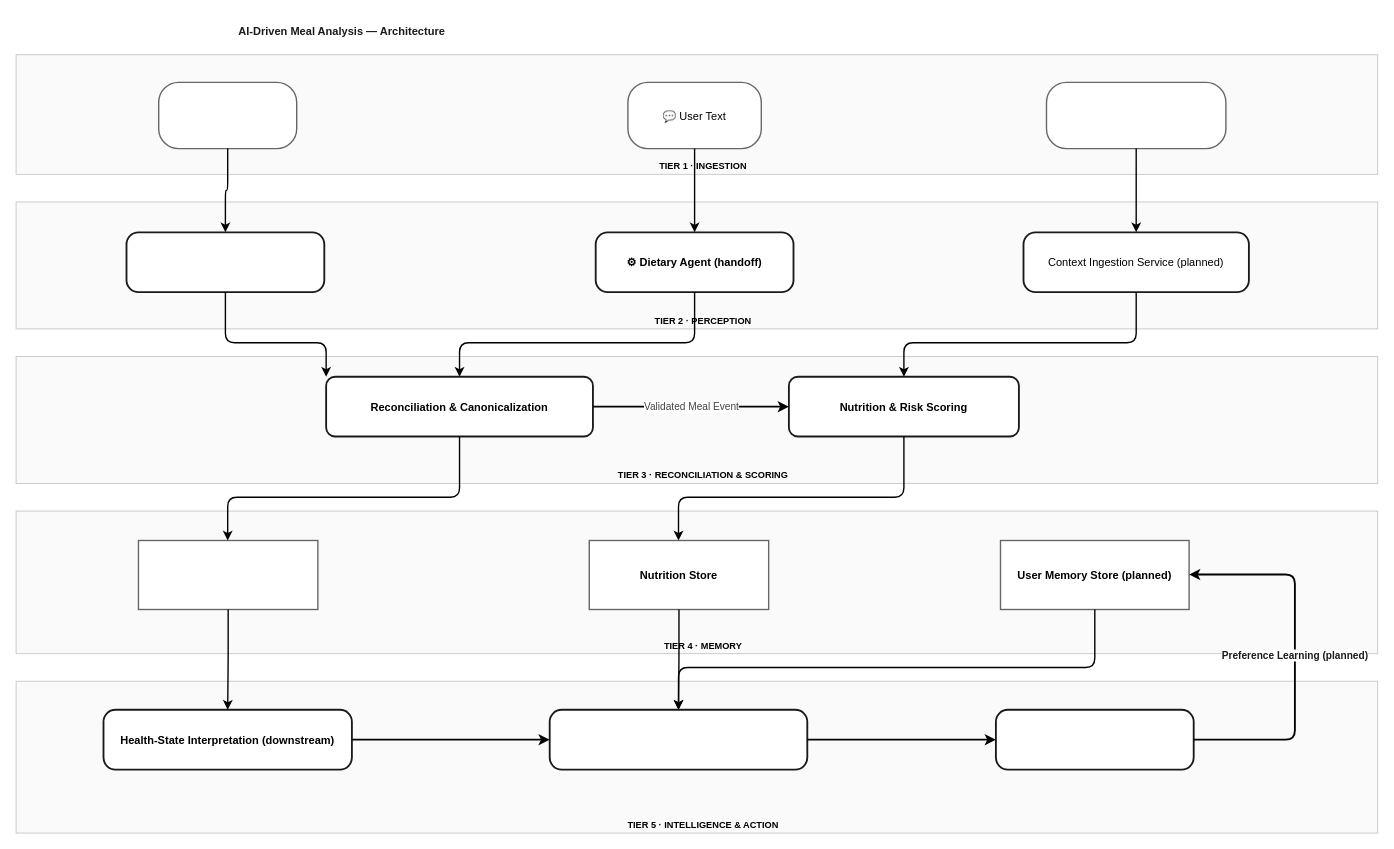
This 1394x849 diagram has some shape labels left out. Each missing label, with the centre of its shape:
"Meal Event Store" goes at (x=227, y=574).
"Patient Response (downstream)" goes at (x=1094, y=739).
"Recommendation Engine (downstream)" goes at (x=678, y=739).
"⚙ Vision Agent" goes at (x=225, y=262).
"📍 Location + Context" goes at (x=1135, y=115).
"📷 Meal Image" goes at (x=227, y=115).
